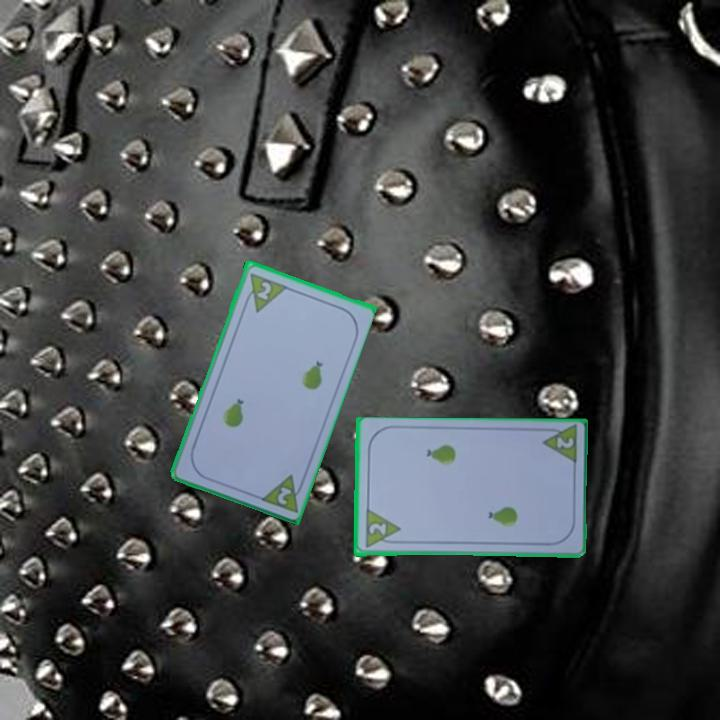2p: (256, 470, 308, 515), (240, 269, 288, 315), (362, 507, 402, 551), (553, 433, 576, 451)
